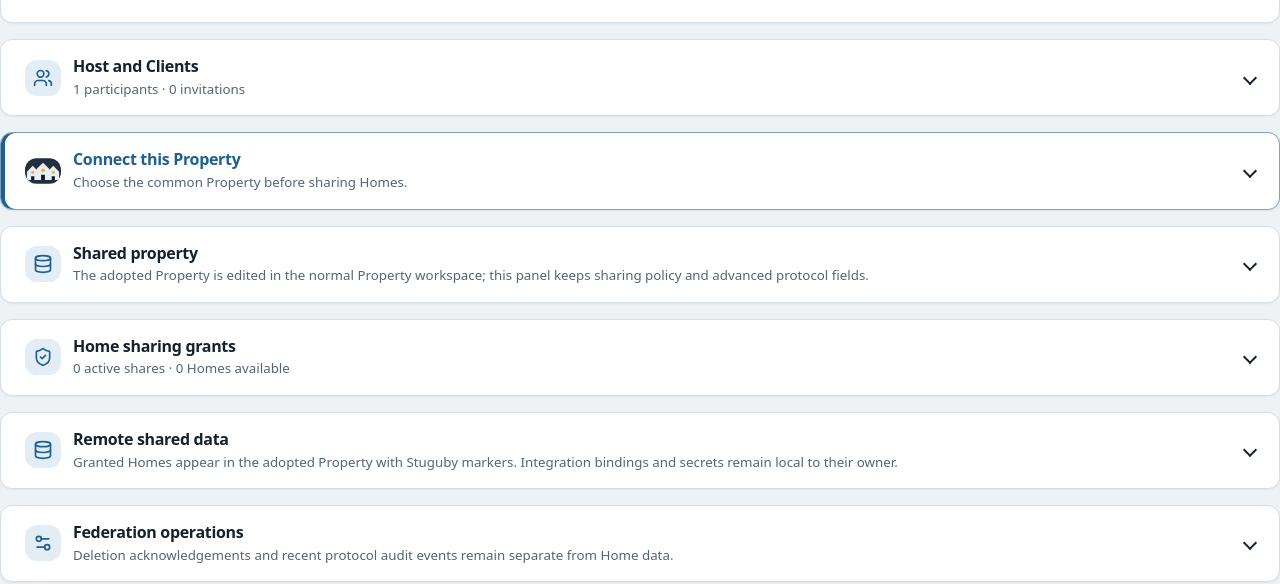
Scenario: StugubyPage › rejects a half-entered shared-property coordinate
(page scrolled)
Click the text "Shared property": (135, 252) [73, 242, 198, 264]
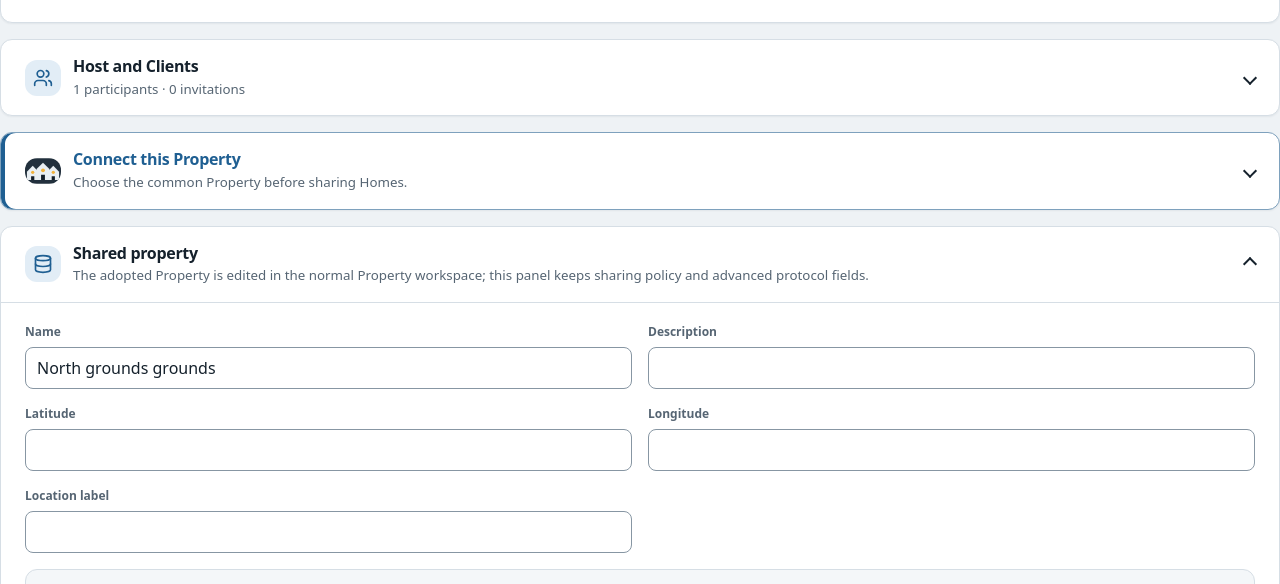
In the number field labelled "Latitude": (328, 450) [25, 429, 632, 471], type "60.17"
(page scrolled)
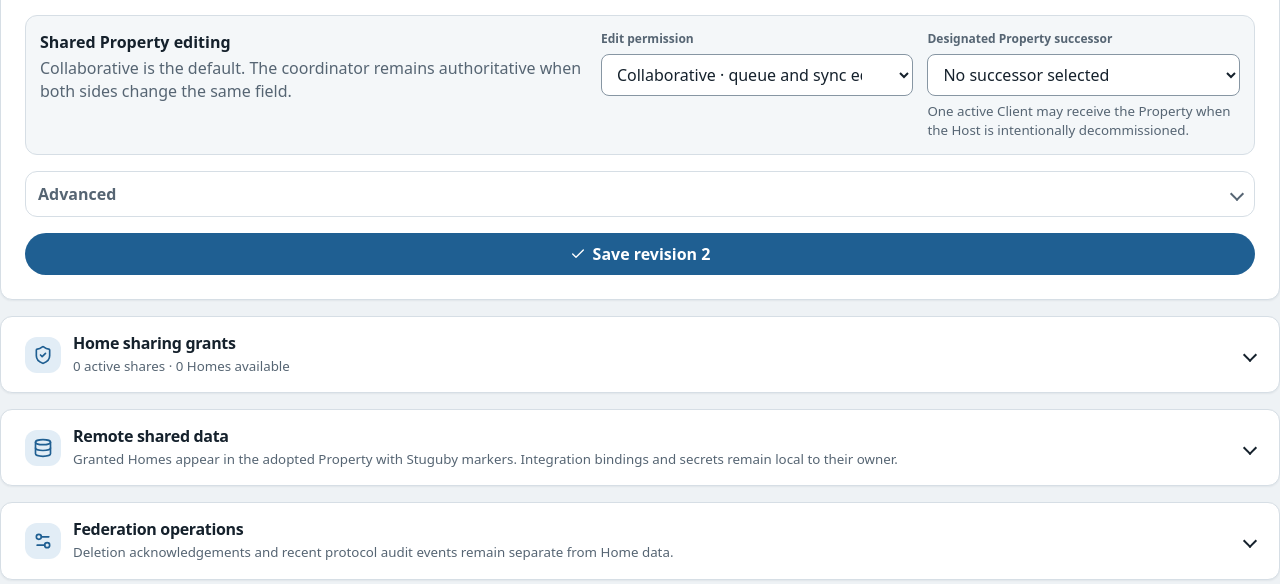
Click the button "Save revision 2": (640, 254) [25, 233, 1255, 275]
(page scrolled)
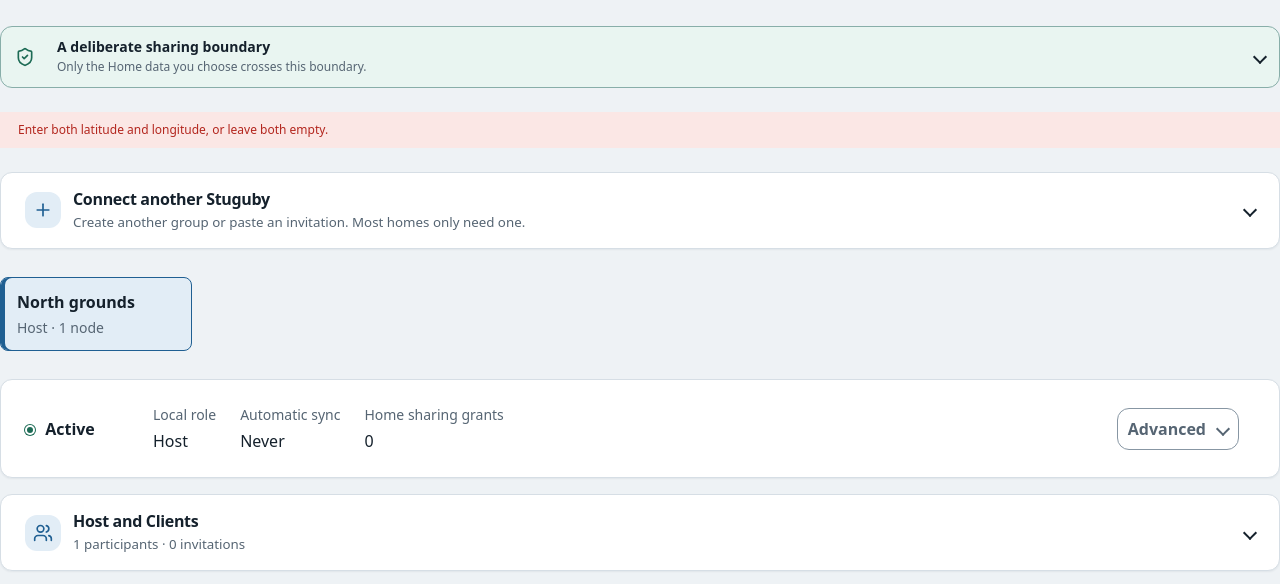
Check: the message shows "Enter both latitude and longitude", box [18, 121, 328, 138]
